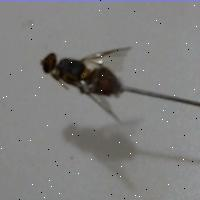Oriental-fruit-fly: (24, 35, 138, 127)
